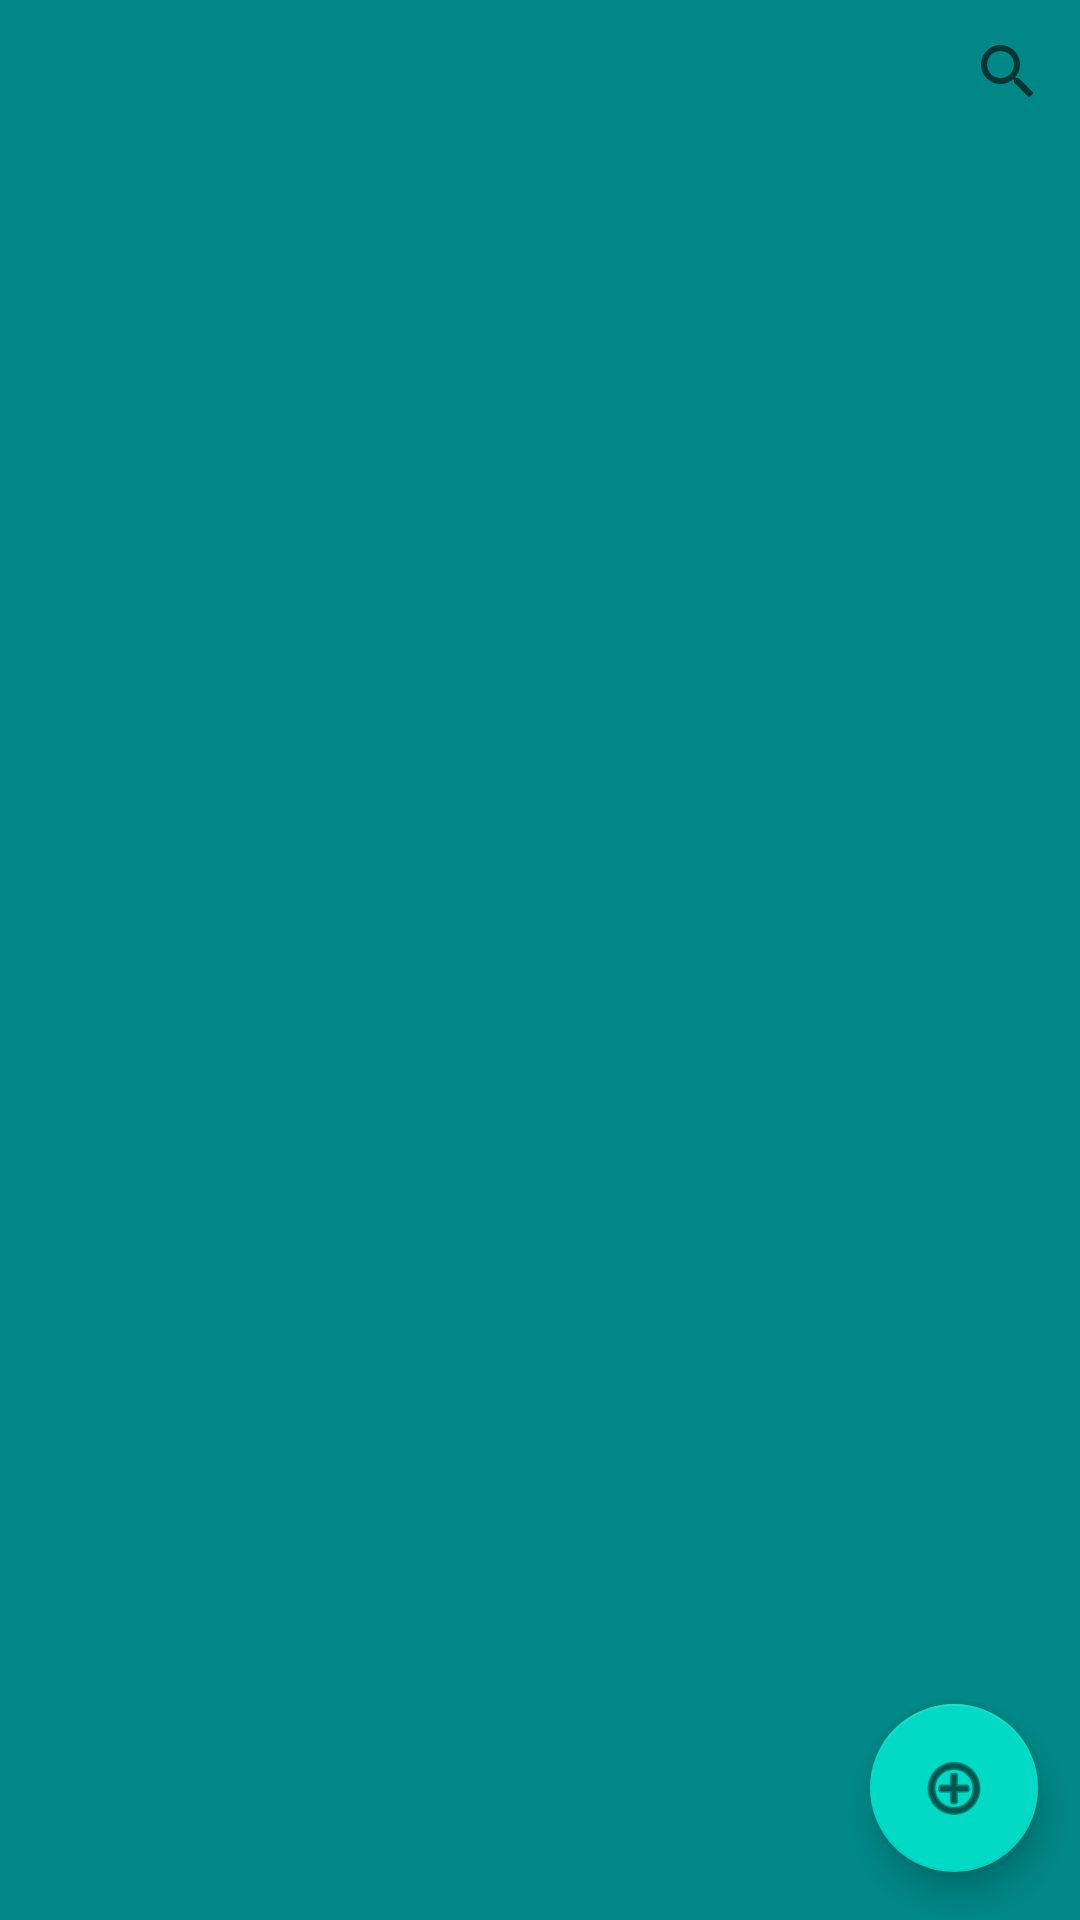

Where to tap for icons on this 1080w x 1920h app screen, as (x=x, y=y):
add: (x=954, y=1788)
